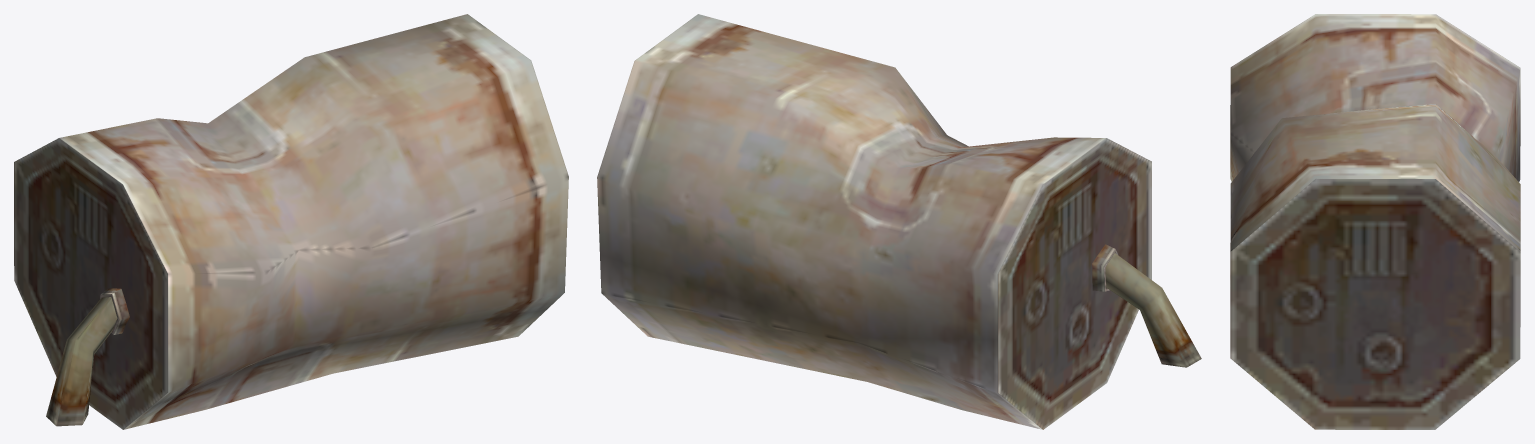
File: tyt_arch_fleshraider_junk_16.glb
3 renders of one model, left to right at view 1: azimuth 30°, elevation 25°; view 2: azimuth 150°, elevation 25°; view 3: azimuth 270°, elevation 25°, orthographic. The views are drawn at different scales.
Visible parts, largest first — view 1: tyt_arch_fleshraider_junk_16; view 2: tyt_arch_fleshraider_junk_16; view 3: tyt_arch_fleshraider_junk_16.
Part boxes in pixels (bbox=[...]): tyt_arch_fleshraider_junk_16: bbox=[14, 14, 568, 429]; tyt_arch_fleshraider_junk_16: bbox=[597, 14, 1201, 429]; tyt_arch_fleshraider_junk_16: bbox=[1230, 14, 1520, 429].
Bounding box in the file's own units: 0.1276 × 0.068 × 0.0696.
Materials: 1 (1 with a texture image).
